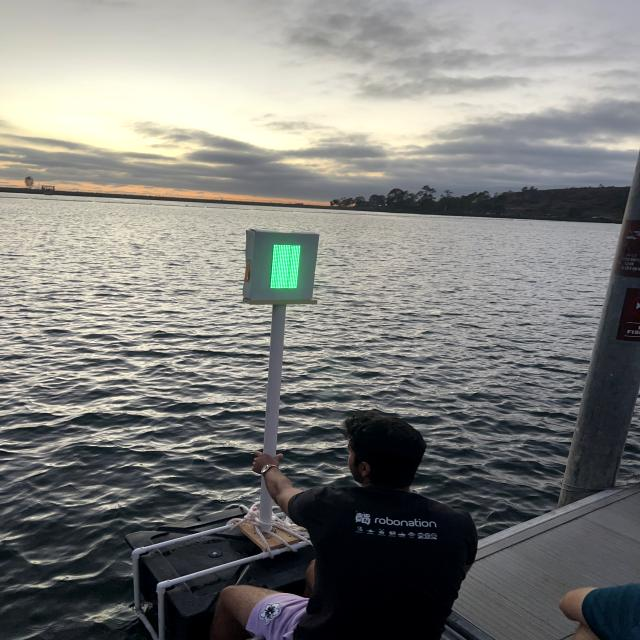led: (250, 230, 313, 303)
